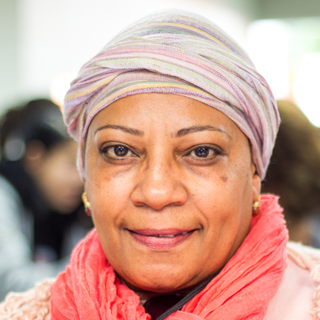eye: (96, 138, 143, 165), (177, 140, 227, 164)
